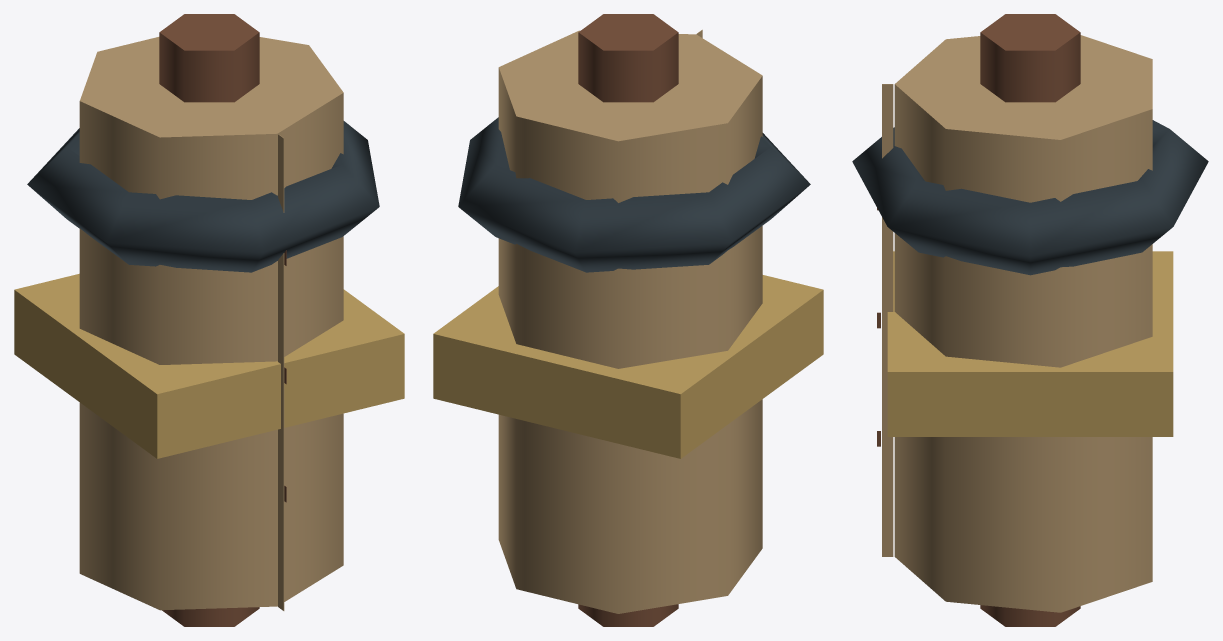
The model's file is scroll-4-lod1.glb.
3 renders of one model, left to right at view 1: azimuth 30°, elevation 25°; view 2: azimuth 150°, elevation 25°; view 3: azimuth 270°, elevation 25°, orthographic.
Parts seen in each view (by area): view 1: piece_whole, ReadingSheet; view 2: piece_whole; view 3: piece_whole, ReadingSheet.
Boxes of the visible parts, bbox=[...] form: piece_whole: bbox=[14, 14, 404, 626]; ReadingSheet: bbox=[278, 134, 286, 610]; piece_whole: bbox=[433, 14, 823, 626]; piece_whole: bbox=[852, 14, 1208, 626]; ReadingSheet: bbox=[877, 84, 893, 556].
Size of the model in its own units: 0.2433 by 0.445 by 0.2496.
